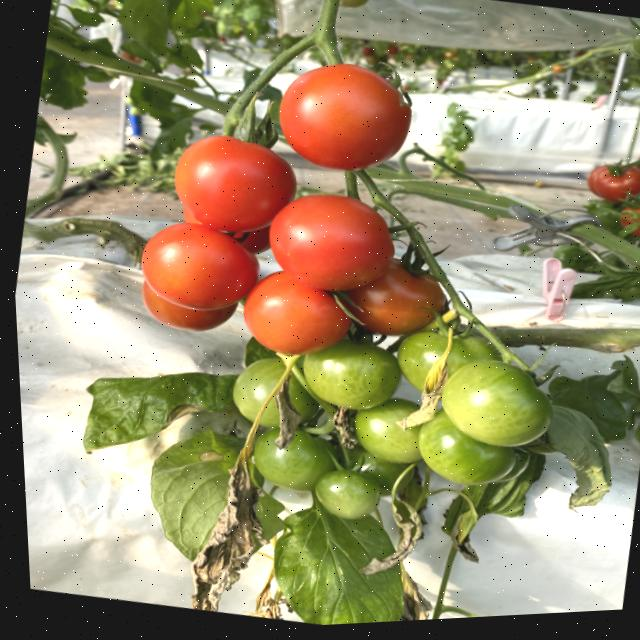ripe0: (436, 355, 556, 450), (301, 342, 404, 416), (252, 425, 329, 493), (312, 470, 381, 522)
ripe2: (273, 57, 414, 177), (170, 131, 299, 236), (265, 187, 399, 278), (136, 219, 263, 314), (242, 269, 352, 362)
